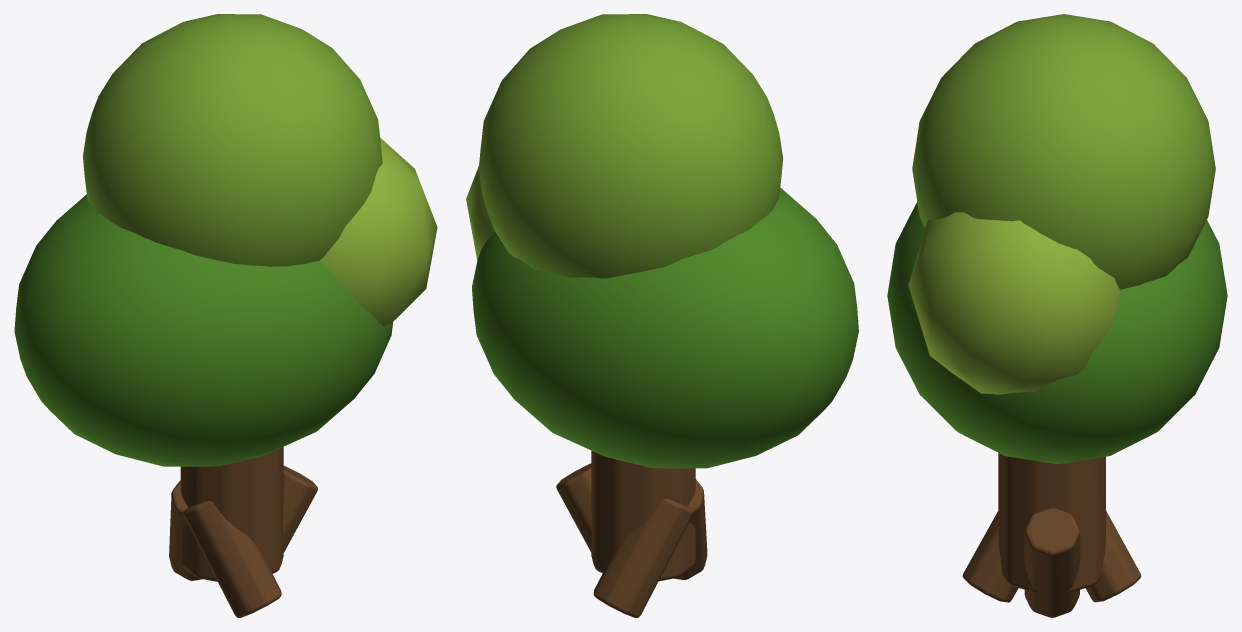
Rendered from tree.glb.
3 renders of one model, left to right at view 1: azimuth 30°, elevation 25°; view 2: azimuth 150°, elevation 25°; view 3: azimuth 270°, elevation 25°, orthographic. The views are drawn at different scales.
Visible parts, largest first — view 1: tree_TOY_BODY_VERTEX_COLOR; view 2: tree_TOY_BODY_VERTEX_COLOR; view 3: tree_TOY_BODY_VERTEX_COLOR.
Part boxes in pixels (left/top/right/bottom): tree_TOY_BODY_VERTEX_COLOR: left=14, top=14, right=437, bottom=617; tree_TOY_BODY_VERTEX_COLOR: left=466, top=14, right=858, bottom=617; tree_TOY_BODY_VERTEX_COLOR: left=887, top=14, right=1227, bottom=617.
Bounding box in the file's own units: 1.69 × 2.44 × 1.3.
